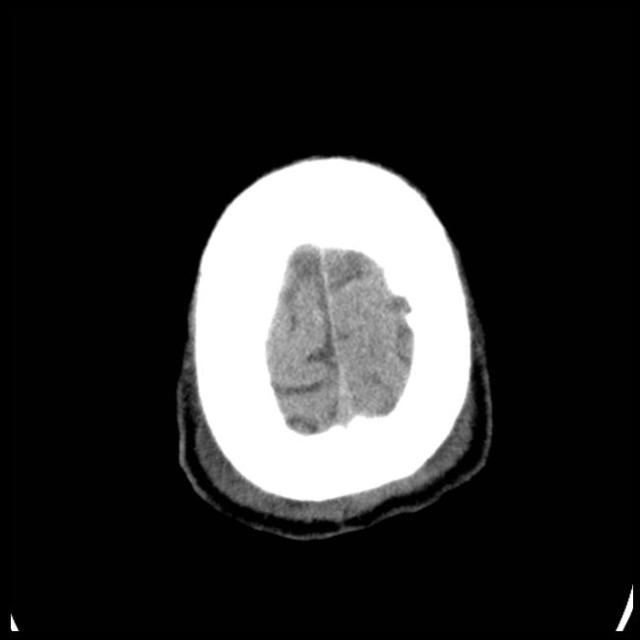lesion: (170, 148, 500, 542)
